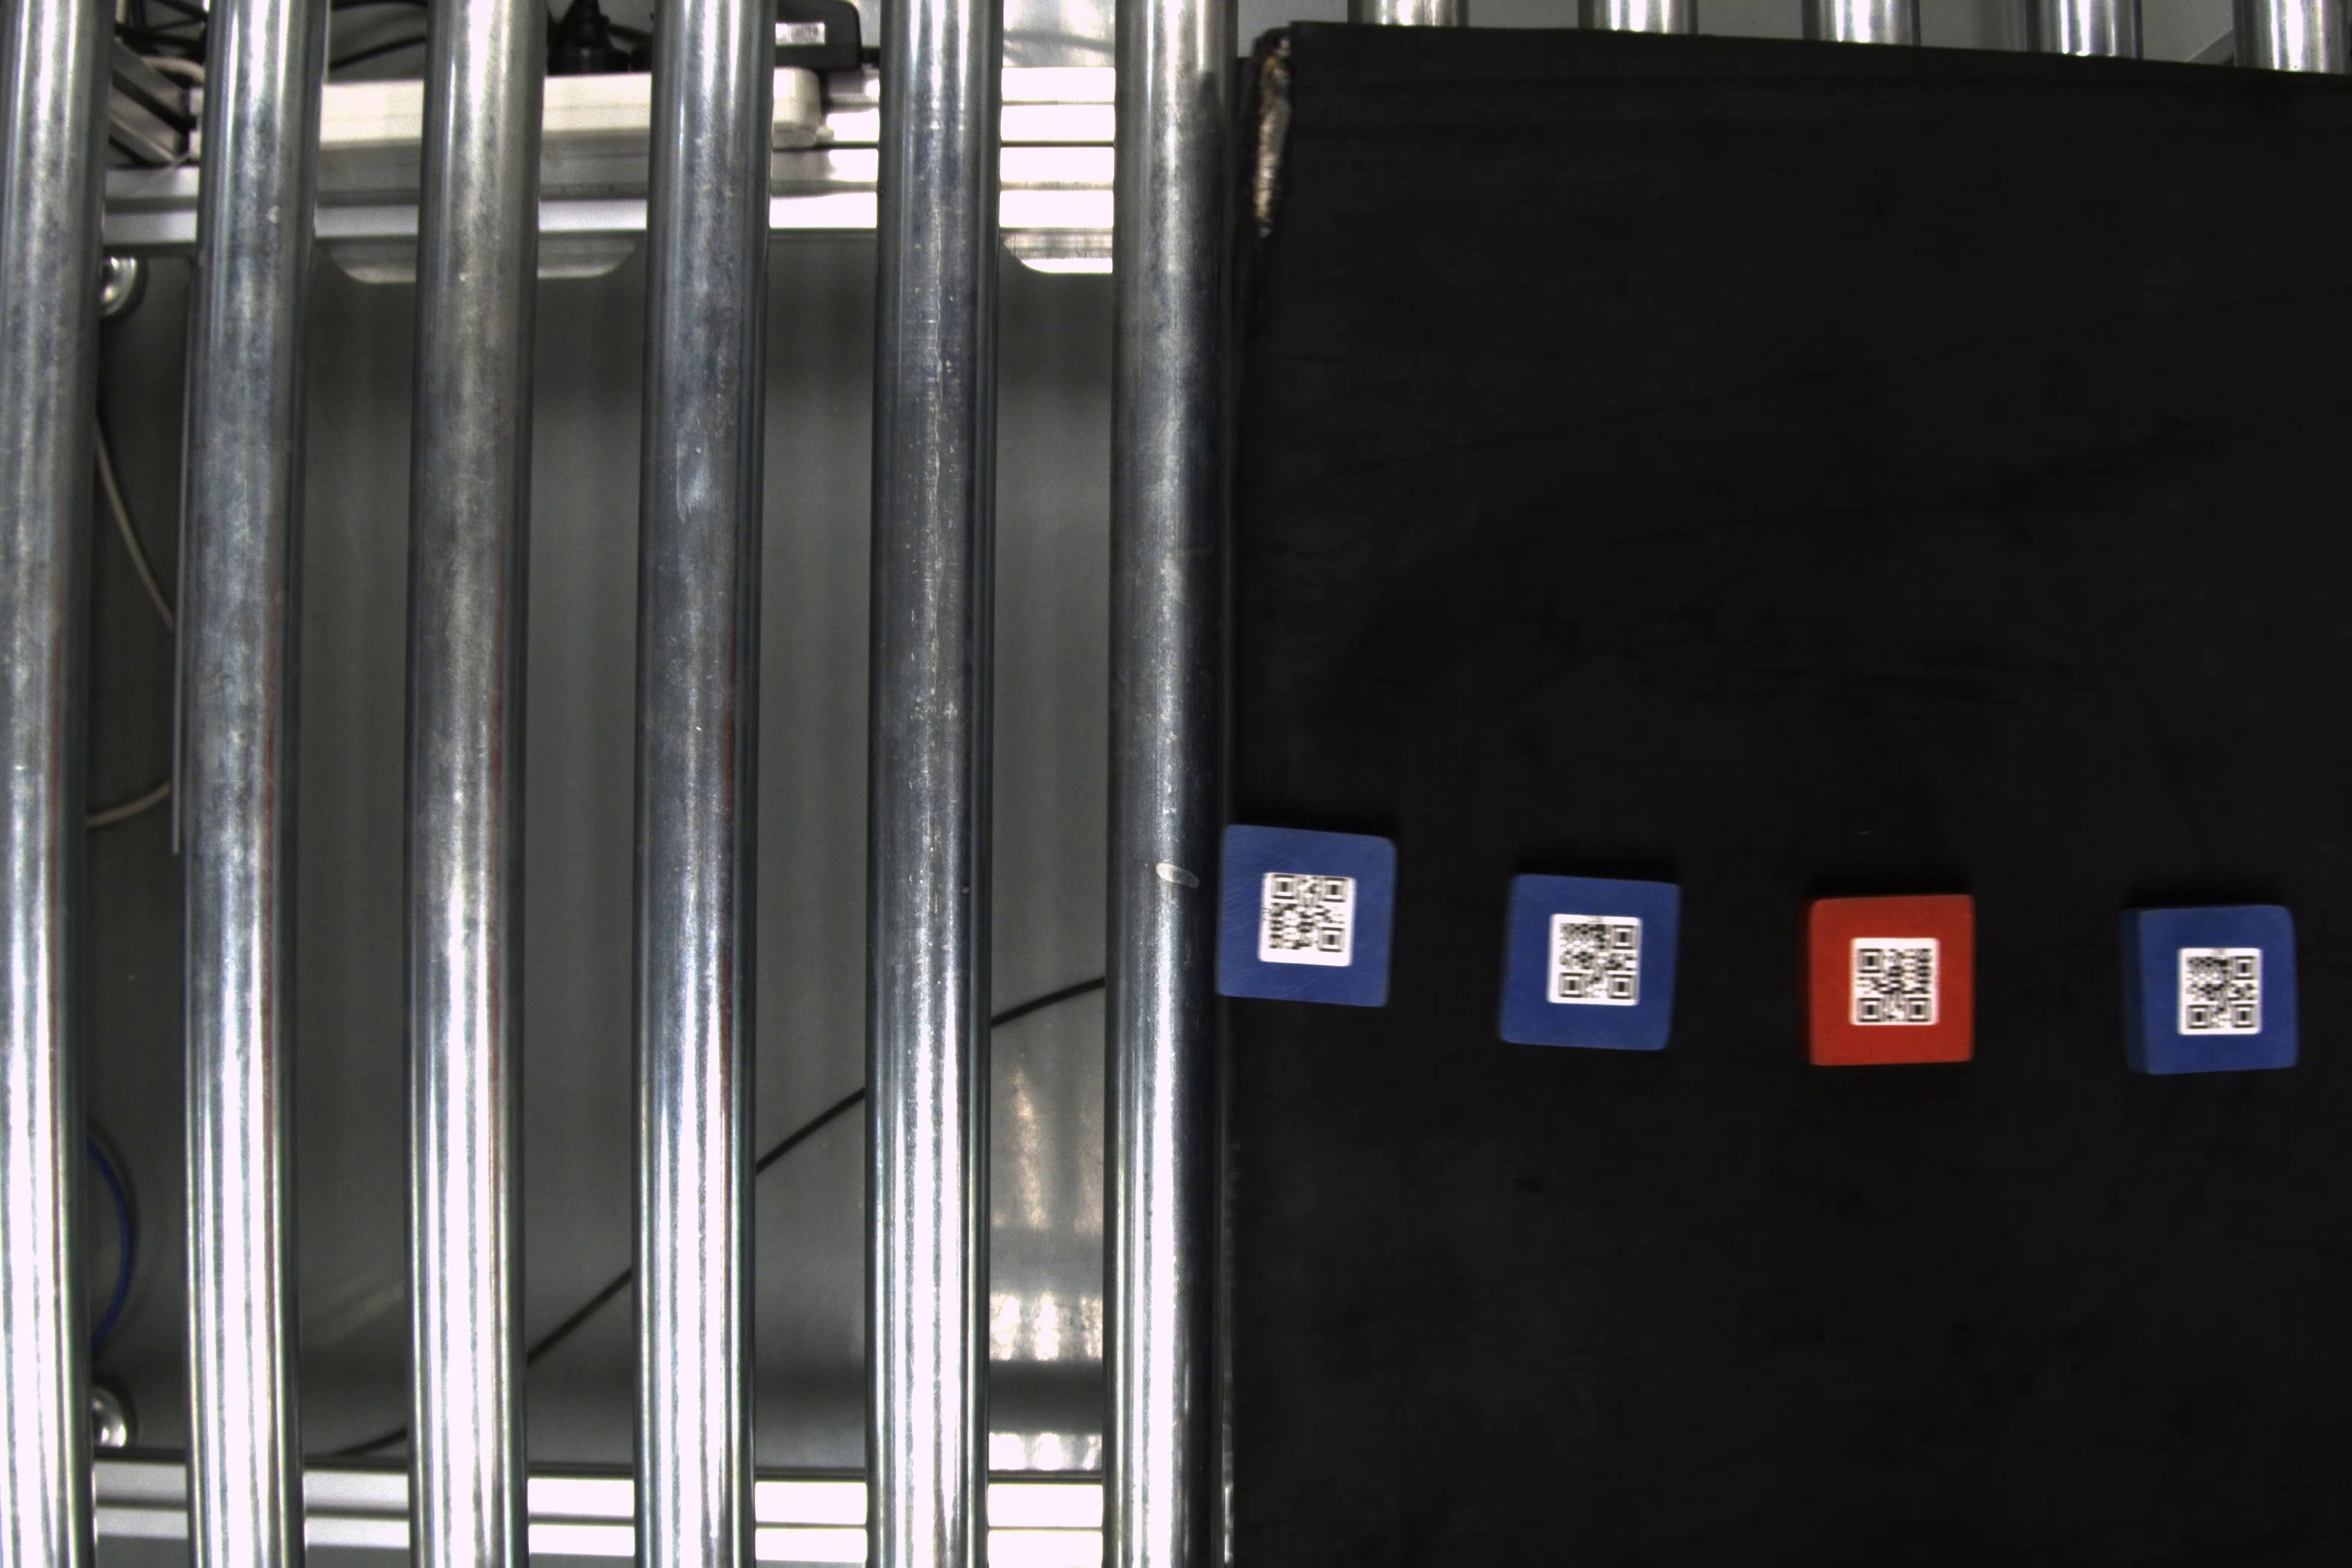wood: (1213, 822, 1400, 1015), (1494, 868, 1685, 1055), (2117, 903, 2306, 1081), (1799, 891, 1979, 1069)
